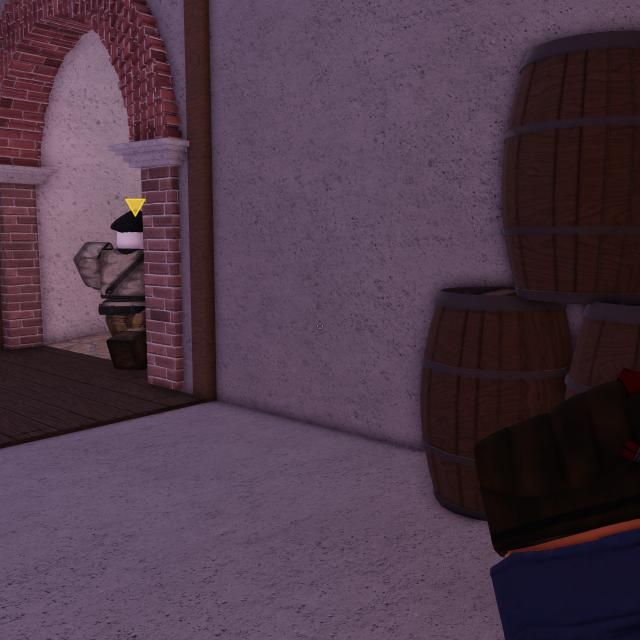Head: (110, 210, 144, 250)
Player: (75, 210, 145, 370)
